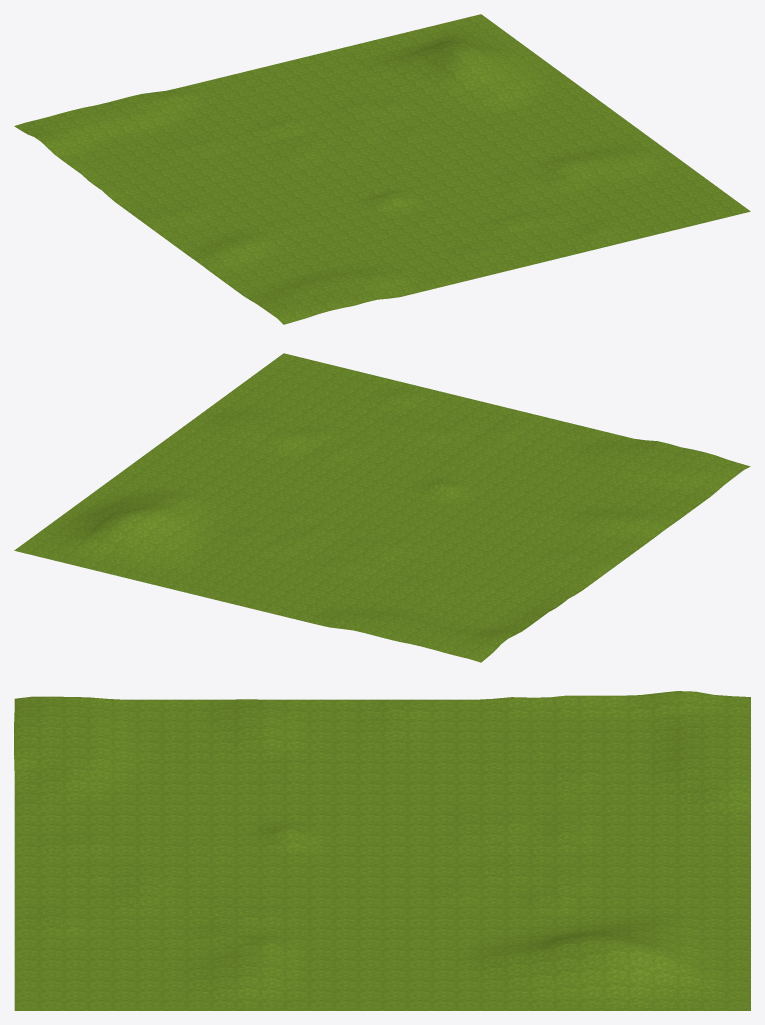
Rendered from TownGround.fbx.
3 renders of one model, top to bottom at view 1: azimuth 30°, elevation 25°; view 2: azimuth 150°, elevation 25°; view 3: azimuth 270°, elevation 25°, orthographic. The views are drawn at different scales.
Parts seen in each view (by area): view 1: Ground; view 2: Ground; view 3: Ground.
Part boxes in pixels (x1,y1,x2,y2): Ground: [14, 14, 750, 324]; Ground: [14, 353, 750, 662]; Ground: [14, 691, 750, 1010].
Bounding box in the file's own units: 1981 × 63.05 × 1982.
Materials: 1 (1 with a texture image).
